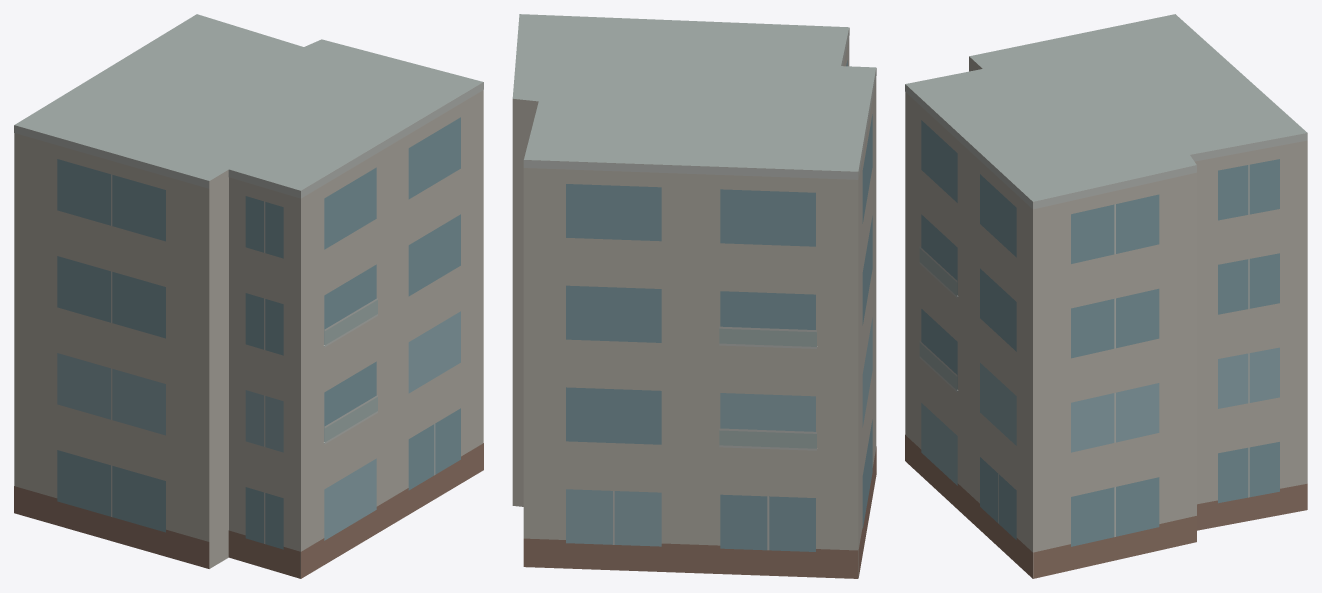
File: survey-upis-32827377.glb
The picture shows the model from 3 angles, left to right: view 1: azimuth 30°, elevation 25°; view 2: azimuth 150°, elevation 25°; view 3: azimuth 270°, elevation 25°; orthographic projection. The views are drawn at different scales.
Parts seen in each view (by area): view 1: survey-upis-32827377.tmp; view 2: survey-upis-32827377.tmp; view 3: survey-upis-32827377.tmp.
Part boxes in pixels (left/top/right/bottom): survey-upis-32827377.tmp: left=14, top=14, right=483, bottom=578; survey-upis-32827377.tmp: left=512, top=14, right=876, bottom=578; survey-upis-32827377.tmp: left=905, top=14, right=1307, bottom=578.
Size of the model in its own units: 13 by 12.15 by 11.77.
